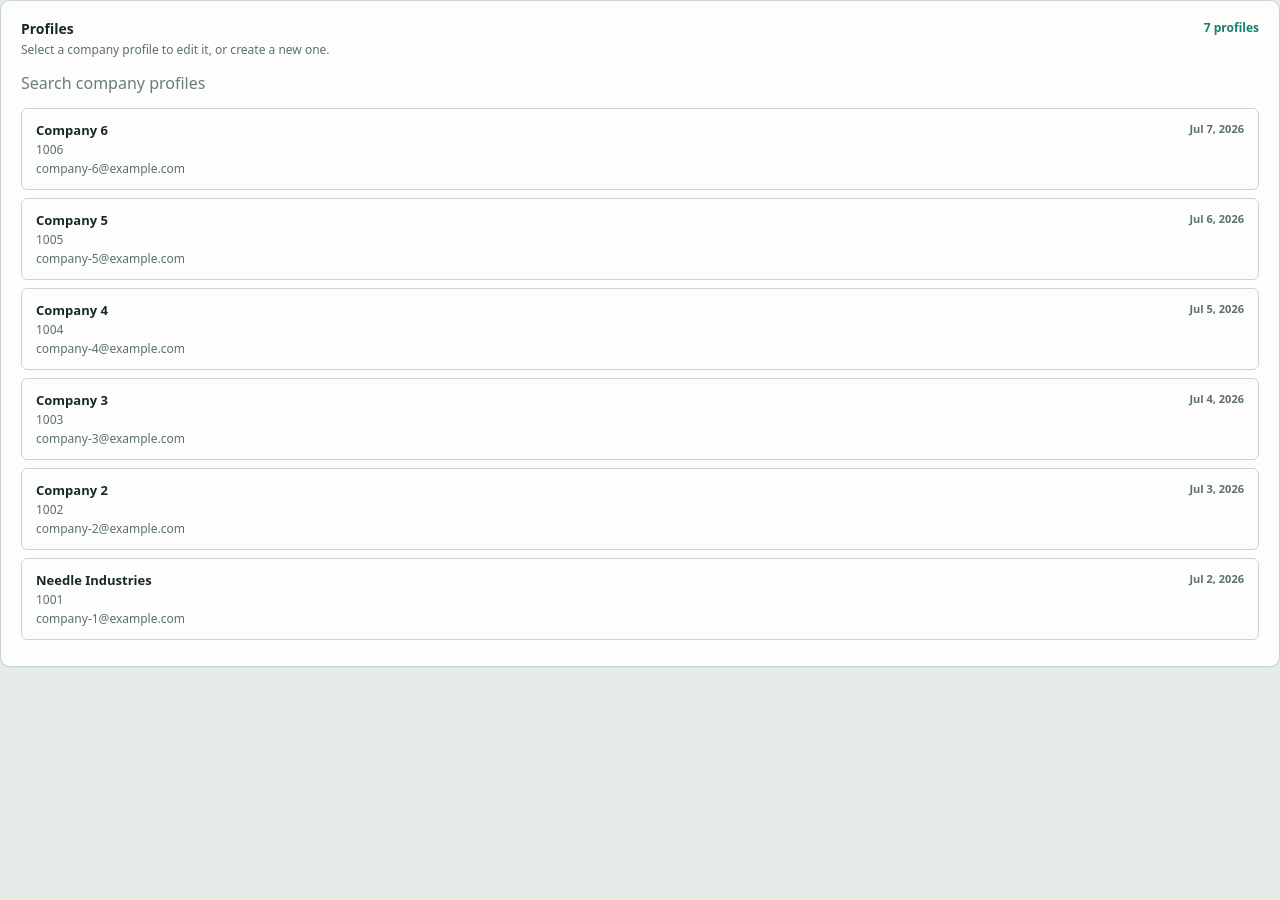
Test case: CompanyProfileLibraryList › sorts recent profiles first and filters when the library is large
Expected: the text "Company 6" is shown, [36,121,108,139]
In the search field with placeholder "Search company profiles": (640, 83) [21,72,1259,94], type "needle"
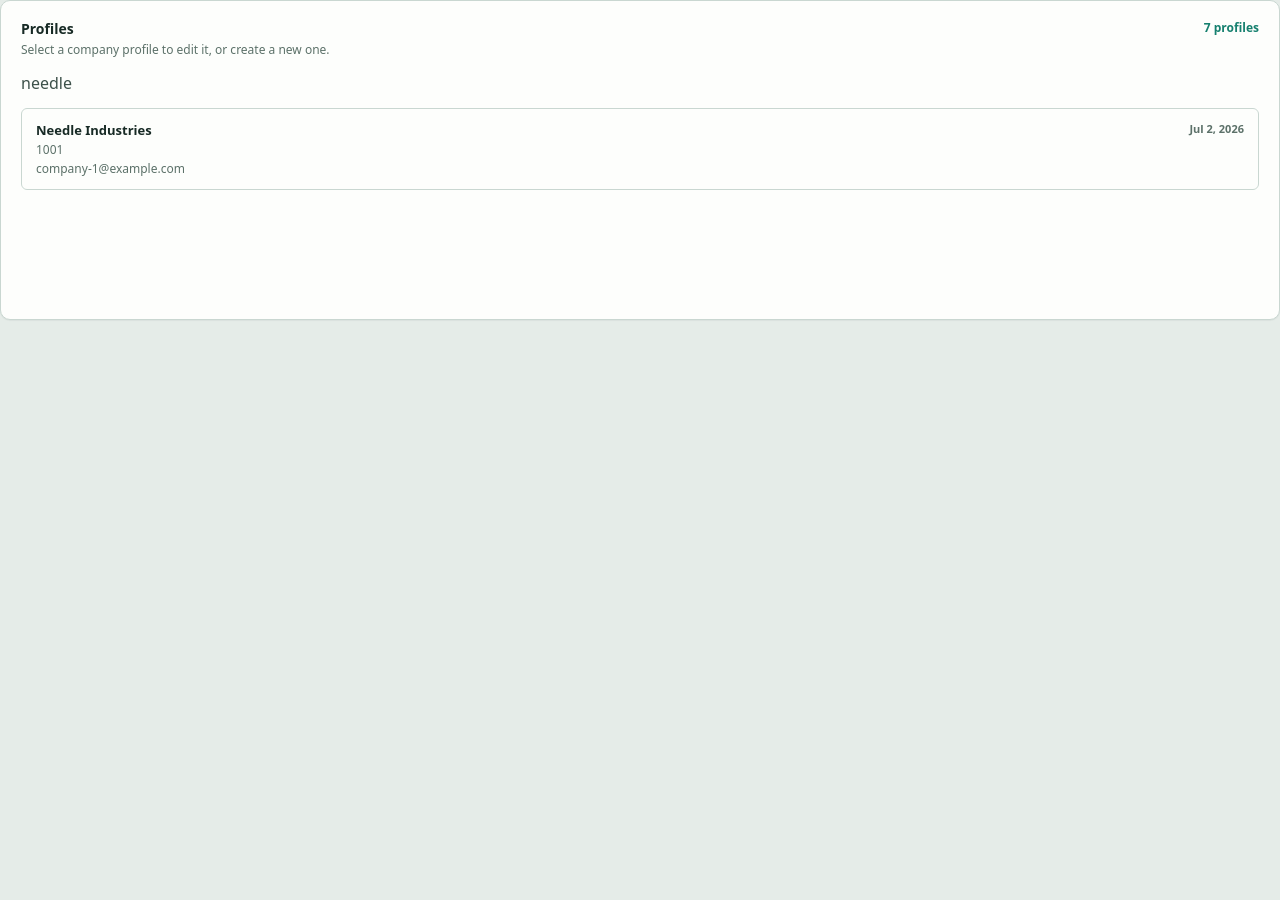
Expected: the text "Needle Industries" is shown, [36,121,152,139]
Now the number of buttons with class "record-card" is 1, box [21,108,1259,190]
